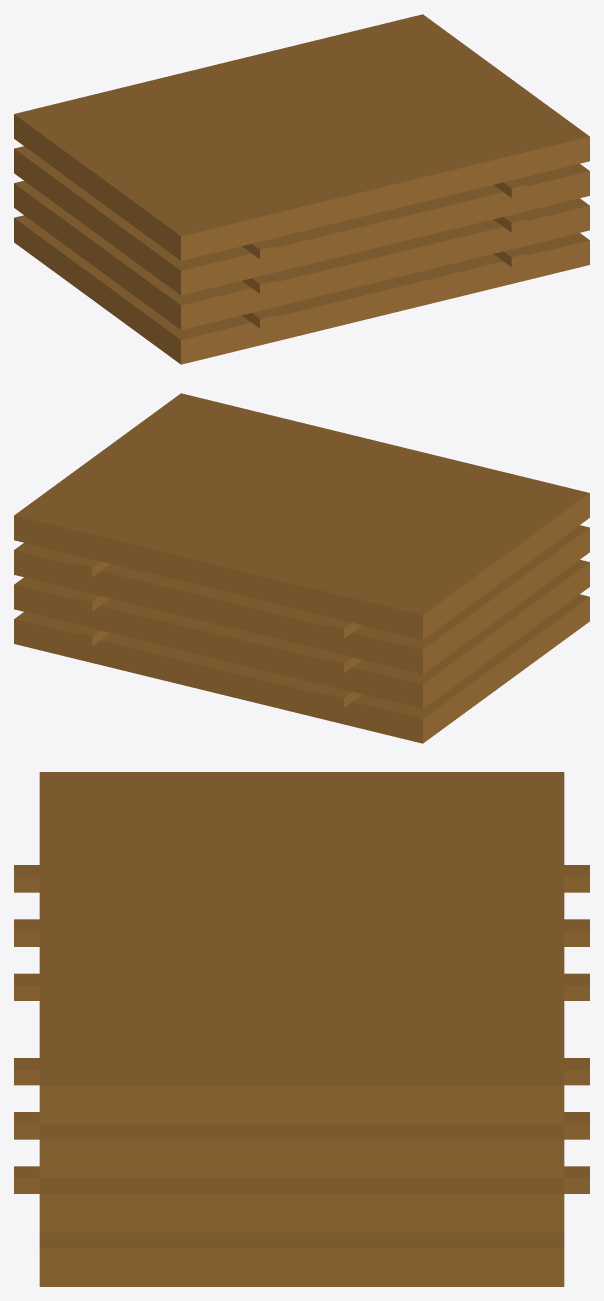
The model's file is SM_TraviesasSueltas_v1_Madera_LOD1.fbx.
3 renders of one model, top to bottom at view 1: azimuth 30°, elevation 25°; view 2: azimuth 150°, elevation 25°; view 3: azimuth 270°, elevation 25°, orthographic. The views are drawn at different scales.
Parts seen in each view (by area): view 1: SM_traviesas_sueltas_v1_LOD1; view 2: SM_traviesas_sueltas_v1_LOD1; view 3: SM_traviesas_sueltas_v1_LOD1.
Part boxes in pixels (x1=…): SM_traviesas_sueltas_v1_LOD1: x1=14, y1=14, x2=589, y2=364; SM_traviesas_sueltas_v1_LOD1: x1=14, y1=393, x2=589, y2=743; SM_traviesas_sueltas_v1_LOD1: x1=14, y1=772, x2=589, y2=1286.
Bounding box in the file's own units: 2.6 × 0.78 × 2.02.
